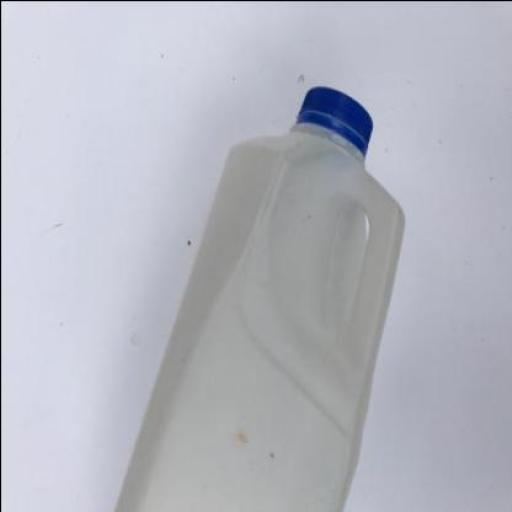plastic: (112, 88, 405, 510), (294, 86, 372, 160)
